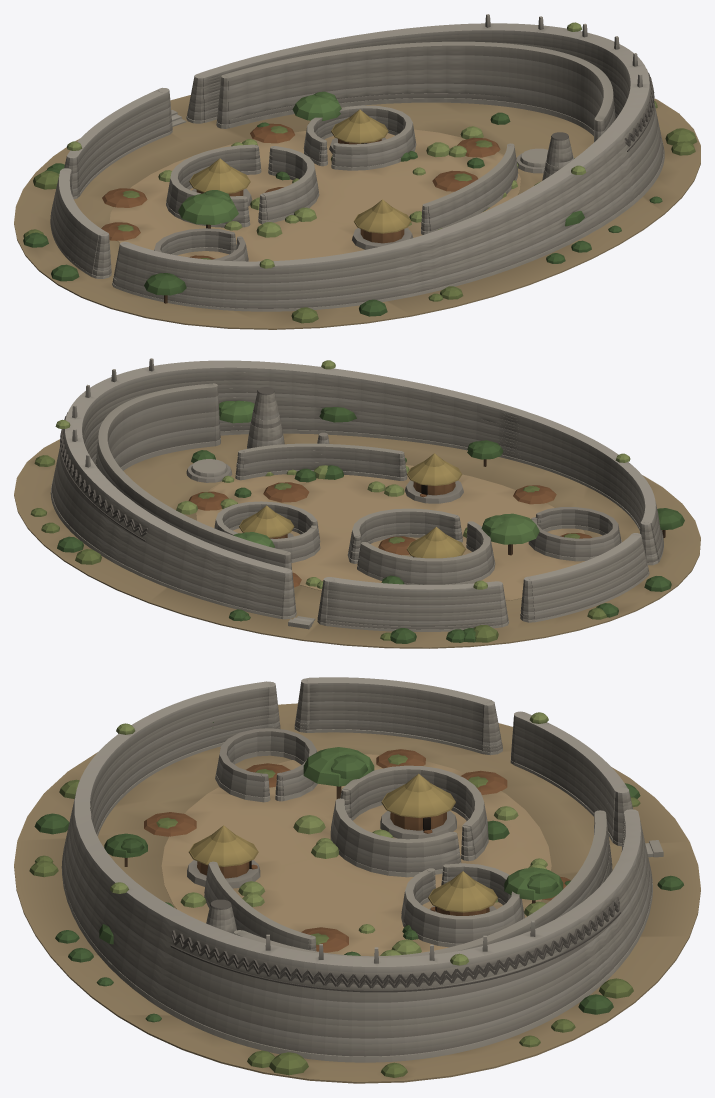
File: great-enclosure-1500.glb
3 renders of one model, top to bottom at view 1: azimuth 30°, elevation 25°; view 2: azimuth 150°, elevation 25°; view 3: azimuth 270°, elevation 25°, orthographic. The views are drawn at different scales.
Parts seen in each view (by area): view 1: p1_outer-wall, p0_ground, p2_inner-walls, p4_overgrowth, p3_houses; view 2: p1_outer-wall, p0_ground, p2_inner-walls, p4_overgrowth, p3_houses; view 3: p1_outer-wall, p0_ground, p2_inner-walls, p4_overgrowth, p3_houses.
Boxes of the visible parts, <box> form: p1_outer-wall: <box>50,14,664,311</box>; p0_ground: <box>14,95,700,329</box>; p2_inner-walls: <box>154,41,615,261</box>; p4_overgrowth: <box>23,22,697,323</box>; p3_houses: <box>101,109,500,259</box>; p1_outer-wall: <box>50,358,663,631</box>; p0_ground: <box>14,433,700,648</box>; p2_inner-walls: <box>95,383,621,584</box>; p4_overgrowth: <box>30,360,684,643</box>; p3_houses: <box>188,453,592,587</box>; p1_outer-wall: <box>61,677,663,1062</box>; p0_ground: <box>14,703,700,1083</box>; p2_inner-walls: <box>204,728,612,957</box>; p4_overgrowth: <box>29,712,683,1077</box>; p3_houses: <box>144,749,570,952</box>.
Size of the model in its own units: 101 by 13.04 by 77.49.
